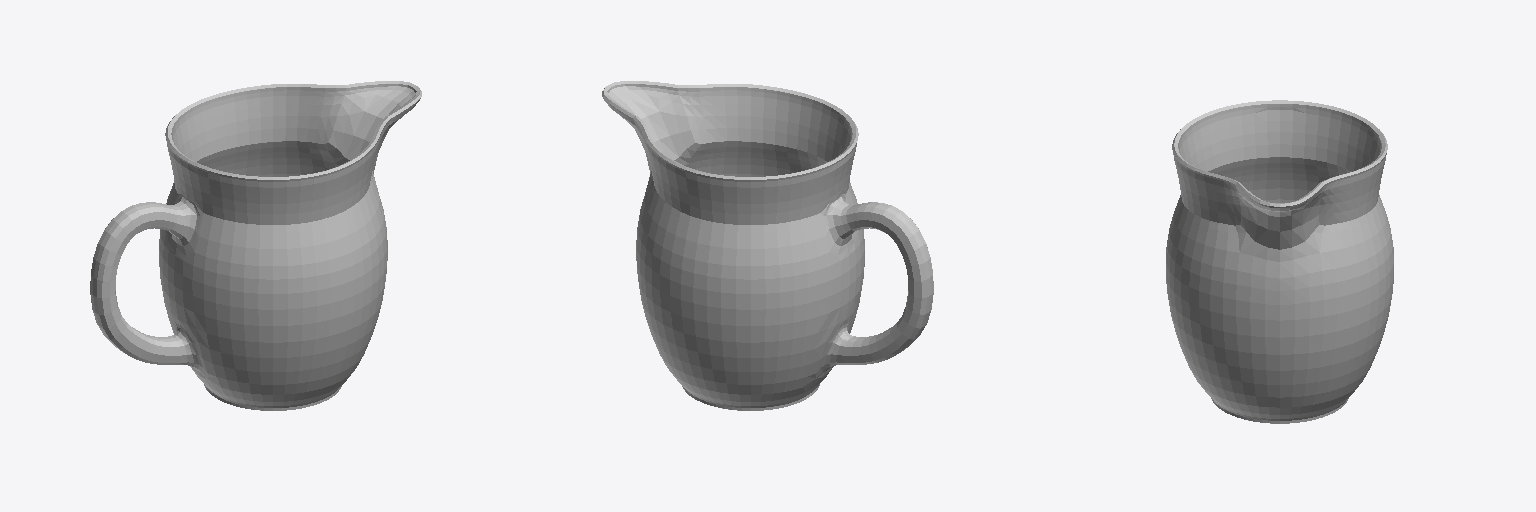
The model's file is jug.obj.
3 renders of one model, left to right at view 1: azimuth 30°, elevation 25°; view 2: azimuth 150°, elevation 25°; view 3: azimuth 270°, elevation 25°, orthographic.
Visible parts, largest first — view 1: jug_01_Cylinder; view 2: jug_01_Cylinder; view 3: jug_01_Cylinder.
Boxes of the visible parts, x1=… form: jug_01_Cylinder: x1=90, y1=81, x2=421, y2=410; jug_01_Cylinder: x1=602, y1=81, x2=933, y2=410; jug_01_Cylinder: x1=1166, y1=100, x2=1393, y2=423.
Size of the model in its own units: 0.2753 by 0.2113 by 0.1675.